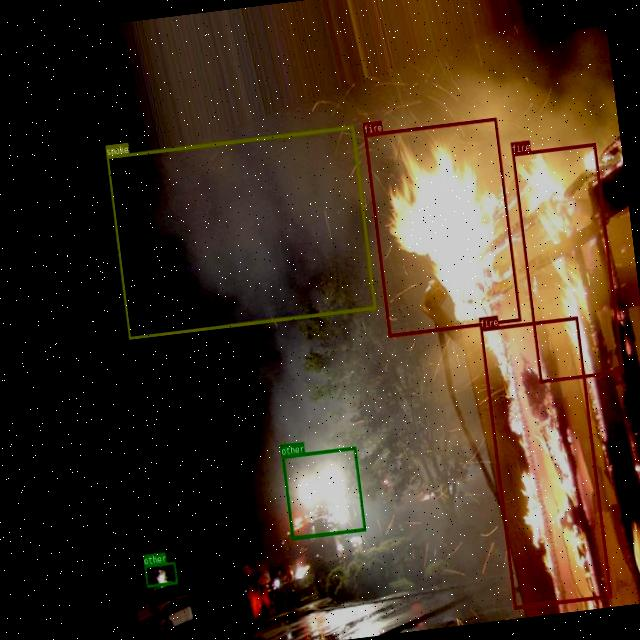fire: (479, 315, 612, 608), (363, 116, 520, 336), (512, 142, 624, 382)
smoke: (105, 124, 375, 338)
